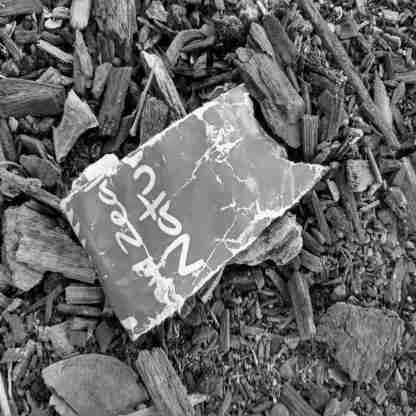plastic: (59, 85, 335, 341)
